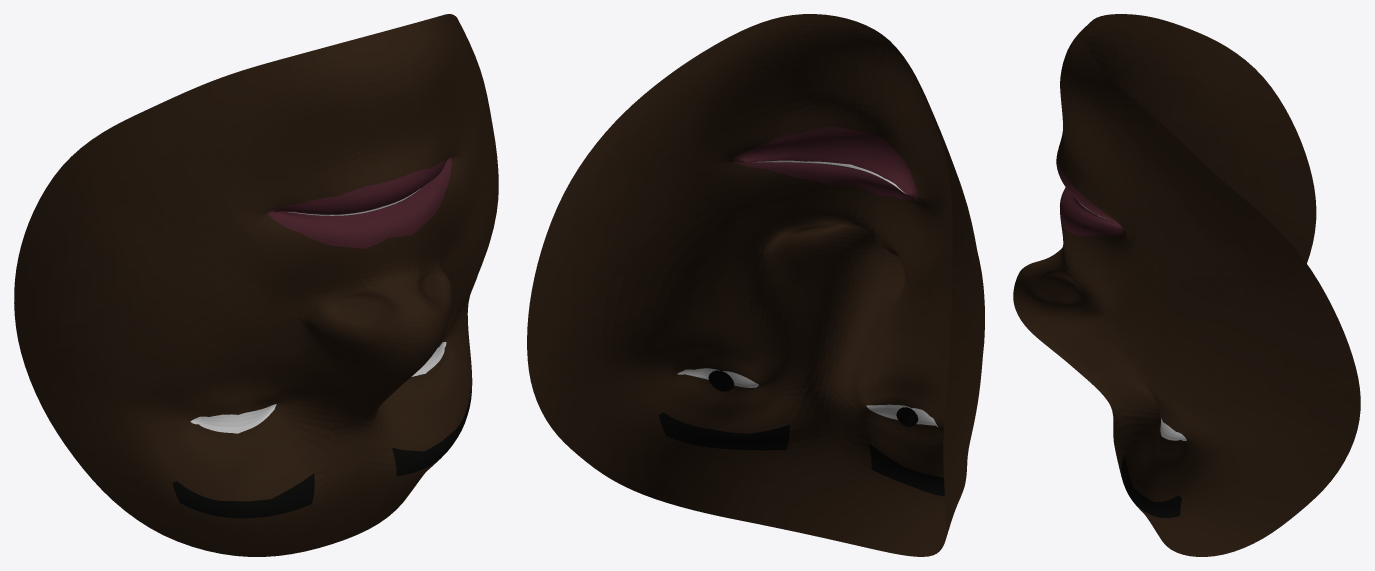
The model's file is tearsofjoy3.obj.
3 views of the same model, side by side, from view 1: azimuth 30°, elevation 25°; view 2: azimuth 150°, elevation 25°; view 3: azimuth 270°, elevation 25° (orthographic). The views are drawn at different scales.
Parts seen in each view (by area): view 1: face_mesh_subdivided; view 2: face_mesh_subdivided; view 3: face_mesh_subdivided.
Boxes of the visible parts, x1,y1,x2,y2 form: face_mesh_subdivided: (14, 14, 498, 556); face_mesh_subdivided: (527, 14, 984, 556); face_mesh_subdivided: (1013, 14, 1360, 556).
Bounding box in the file's own units: 0.6358 × 0.7487 × 0.4795.
